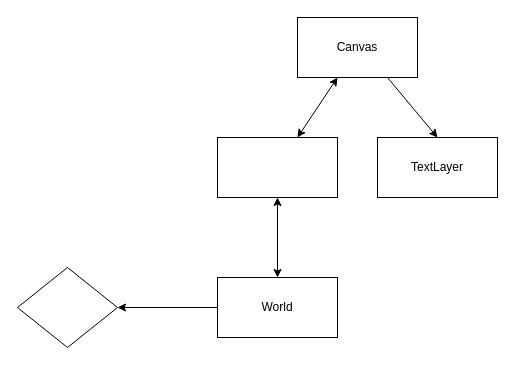
Some shapes in this 515 by 365 pixel diagram are drawn without their labels. Each missing label, with the centre of its shape:
Scene: the point at 277,167
SceneObjects: the point at 67,307
